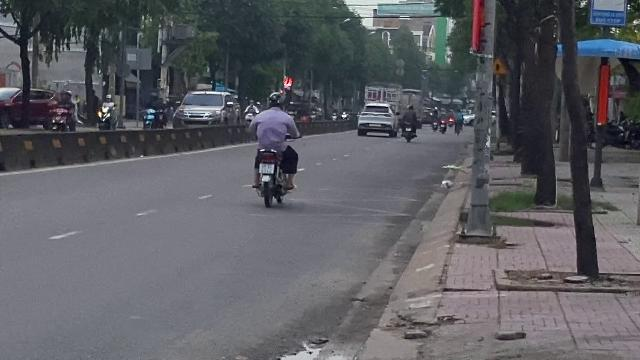helmet: (265, 92, 283, 109)
licenseplate: (260, 164, 274, 174)
motorcyclist: (247, 90, 300, 206)
